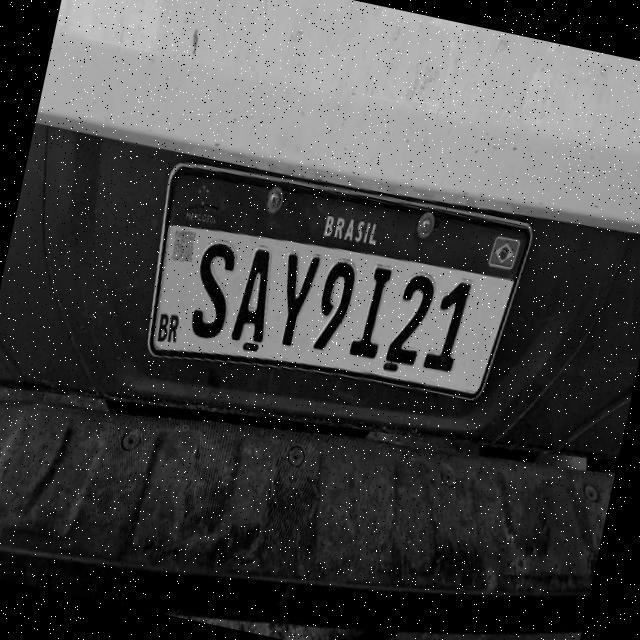placa_mercosul: (150, 161, 538, 403)
